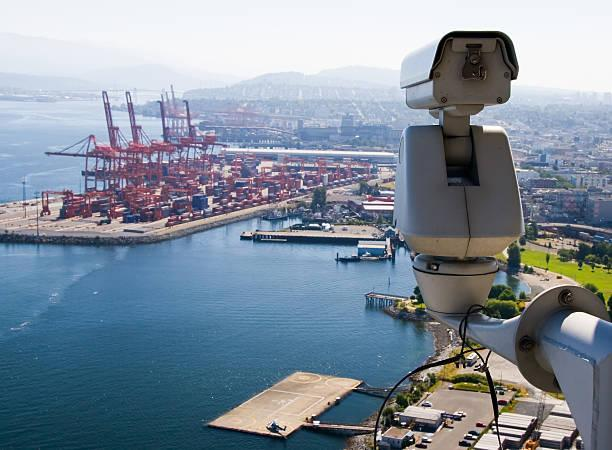camera: (374, 22, 547, 137)
